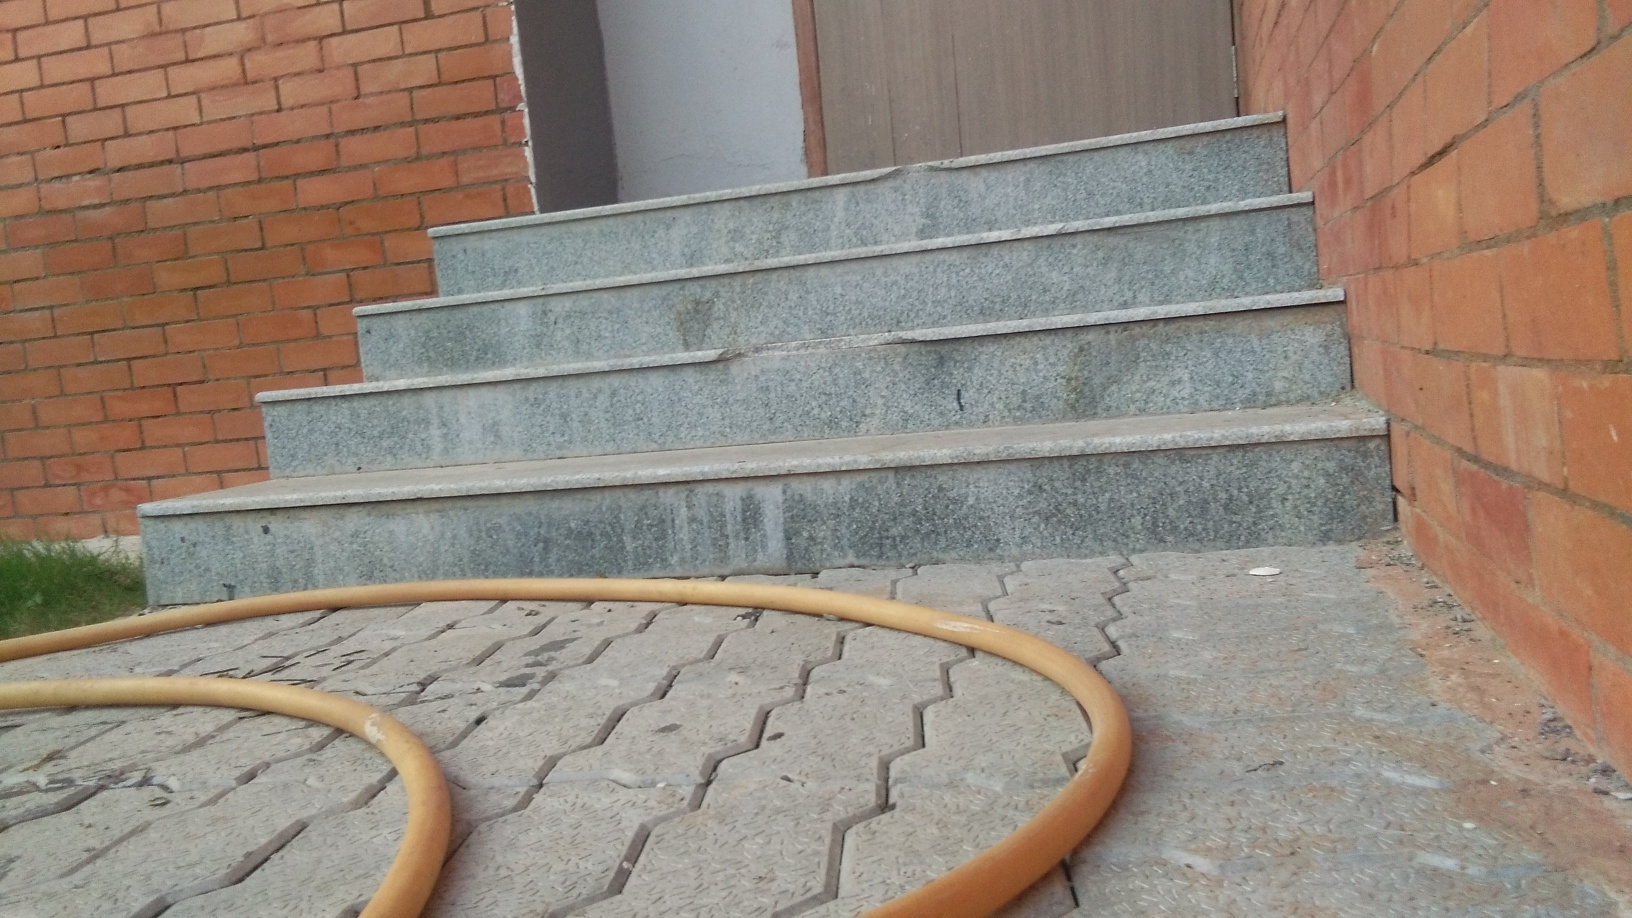stairs_up: (132, 130, 1297, 631)
